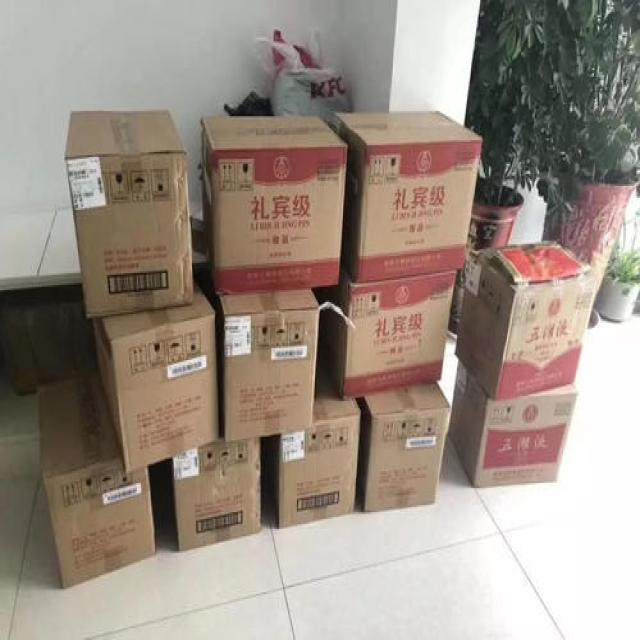box: (65, 109, 196, 319), (201, 114, 347, 295), (334, 111, 483, 282), (38, 374, 156, 589), (93, 276, 220, 471), (454, 239, 599, 403), (323, 265, 457, 398), (448, 360, 579, 486), (265, 357, 362, 527), (216, 288, 320, 444), (356, 382, 449, 512), (172, 439, 262, 551), (6, 300, 97, 394), (192, 205, 205, 254)
